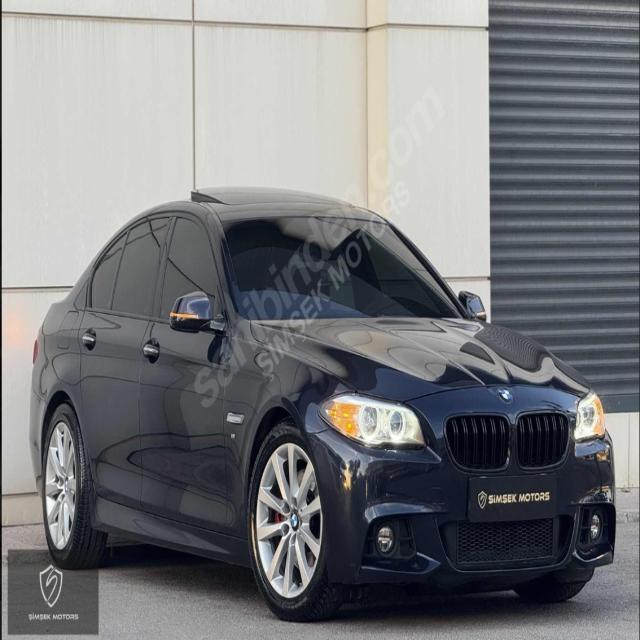bmw: (498, 383, 517, 407)
